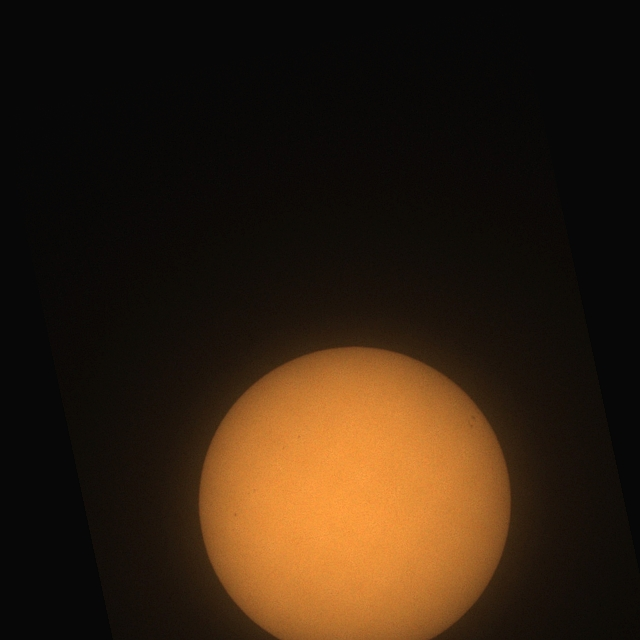sunspot: (467, 414, 478, 429), (234, 513, 238, 517)
